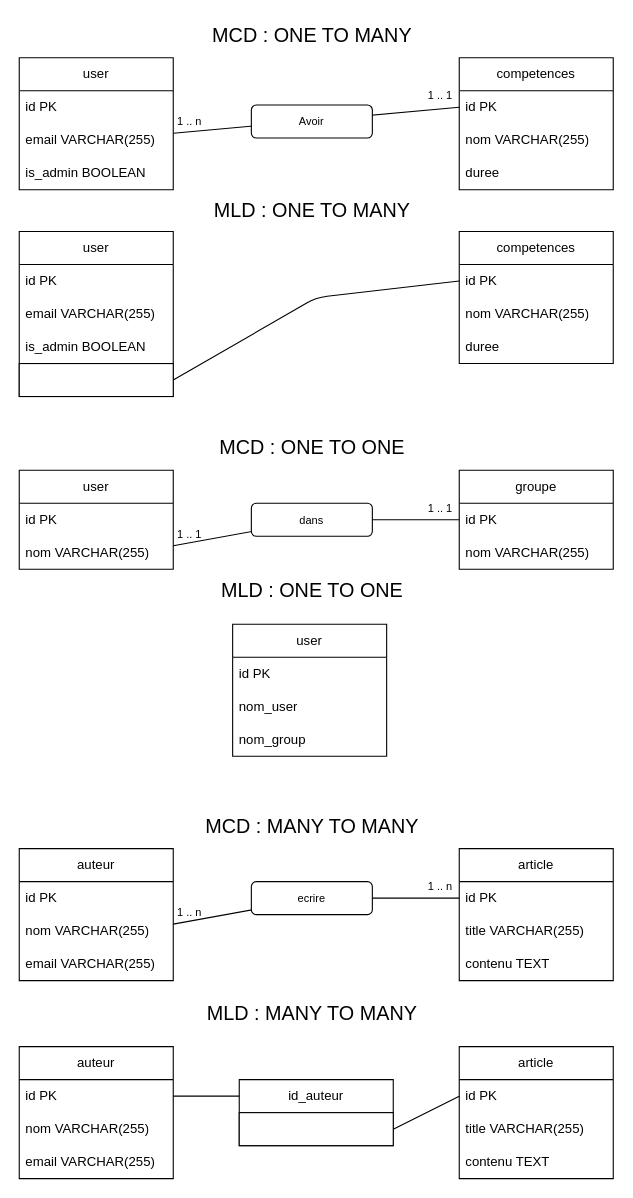
The diagram is 633 pixels wide and 1198 high, and some of its shapes have lost their labels. Here are the shapes that lost their labels. From the top down, the centre of each, then its label:
the point at 95,379: competence id
the point at 315,1129: id_article
